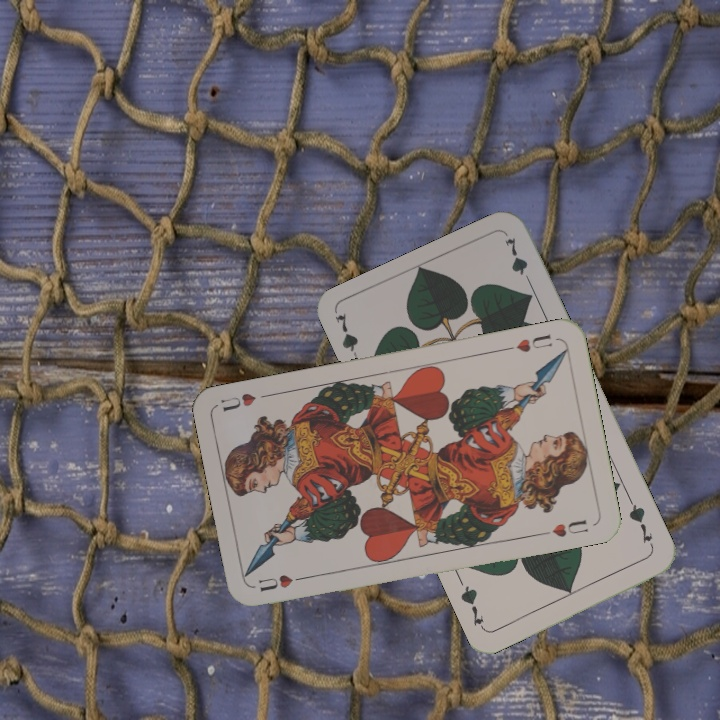G7: (331, 309, 363, 368), (624, 496, 655, 546)
HU: (501, 330, 556, 355), (254, 570, 311, 594)
